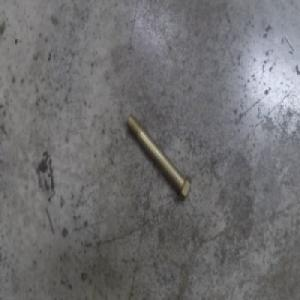Bolt: (125, 112, 192, 202)
